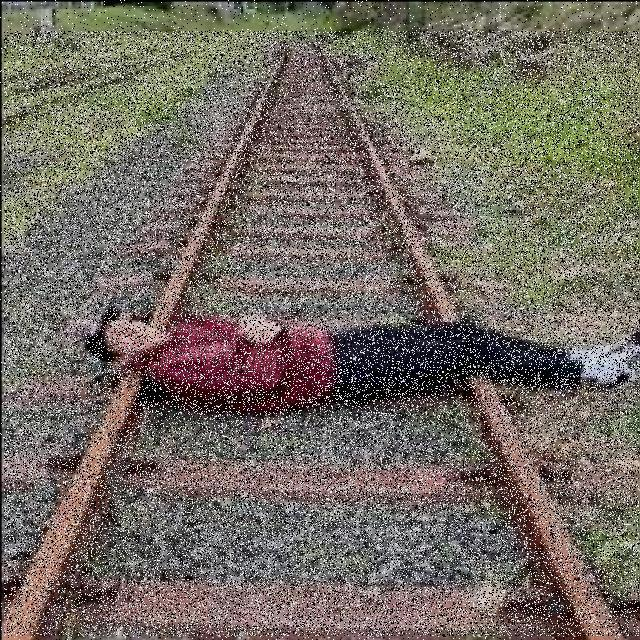danger: (66, 300, 640, 398)
rail: (4, 31, 639, 636)
